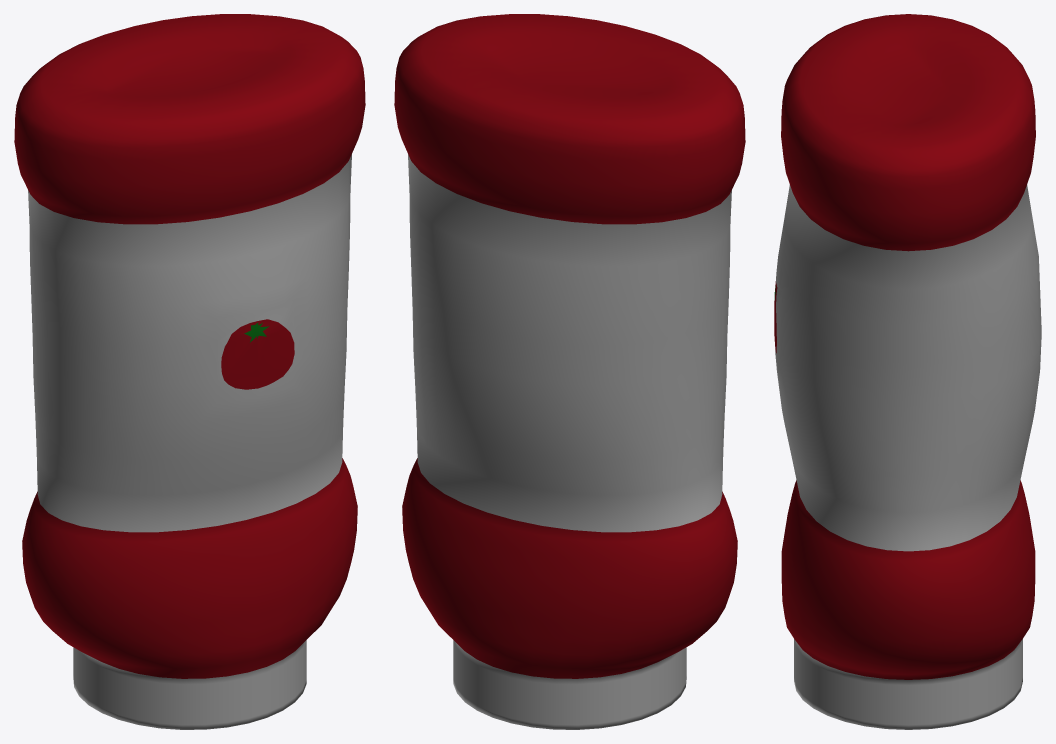
The model's file is KetchupBottle.fbx.
The picture shows the model from 3 angles, left to right: view 1: azimuth 30°, elevation 25°; view 2: azimuth 150°, elevation 25°; view 3: azimuth 270°, elevation 25°; orthographic projection. The views are drawn at different scales.
Parts seen in each view (by area): view 1: Cylinder; view 2: Cylinder; view 3: Cylinder.
Boxes of the visible parts, <box> form: Cylinder: <box>14,14,365,729</box>; Cylinder: <box>394,14,745,729</box>; Cylinder: <box>774,14,1041,729</box>.
Bounding box in the file's own units: 322 × 580 × 234.
